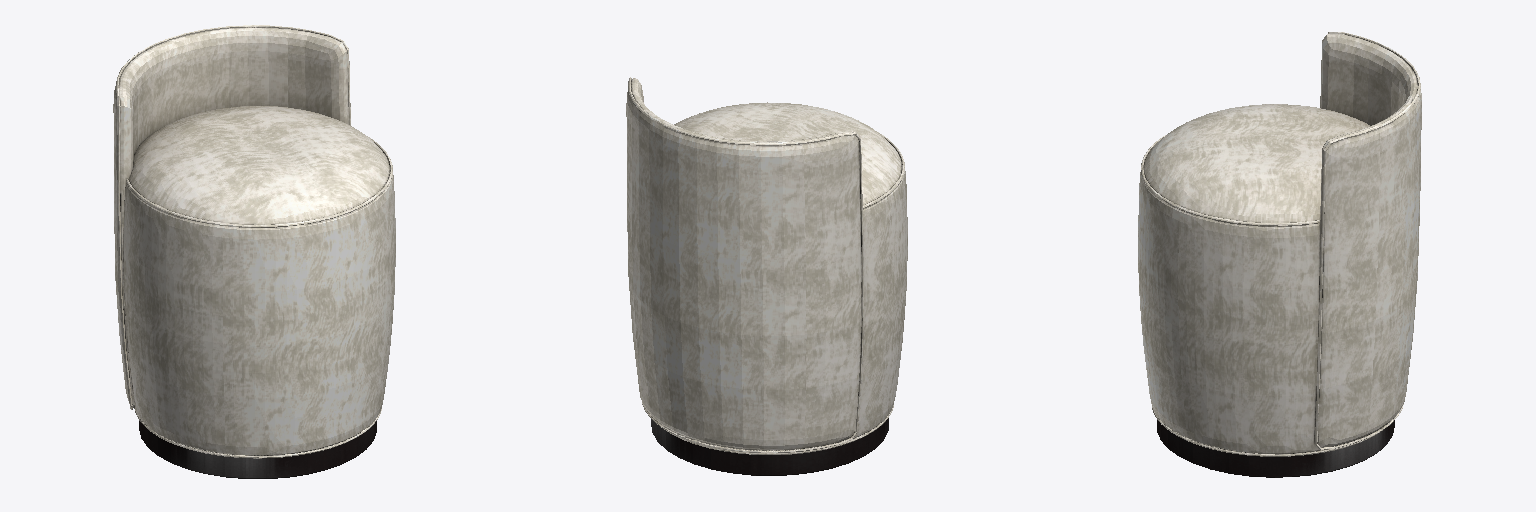
3 views of the same model, side by side, from view 1: azimuth 30°, elevation 25°; view 2: azimuth 150°, elevation 25°; view 3: azimuth 270°, elevation 25° (orthographic).
Visible parts, largest first — view 1: solid_002, solid_001; view 2: solid_002, solid_001; view 3: solid_002, solid_001.
Boxes of the visible parts, x1,y1,x2,y2 form: solid_002: [113, 25, 395, 458]; solid_001: [139, 421, 376, 478]; solid_002: [626, 77, 907, 454]; solid_001: [651, 418, 888, 475]; solid_002: [1138, 32, 1421, 456]; solid_001: [1157, 420, 1394, 477].
Bounding box in the file's own units: 1.06 × 1.46 × 1.09.
Materials: 1 (1 with a texture image).